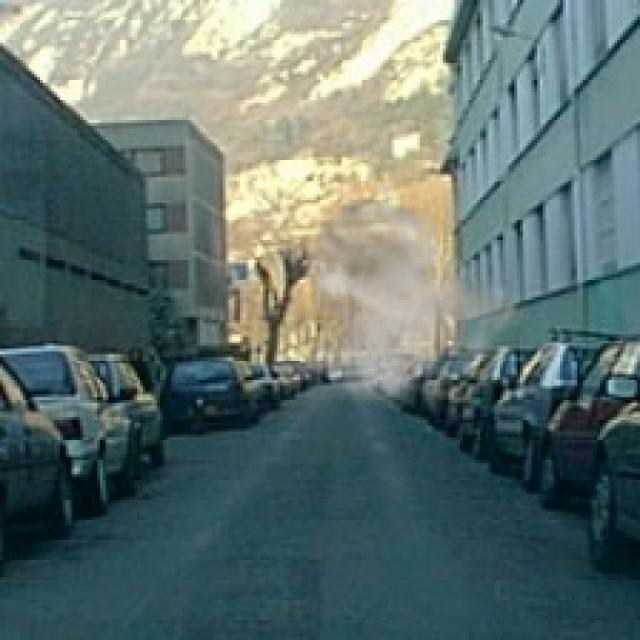smoke: (280, 177, 534, 414)
